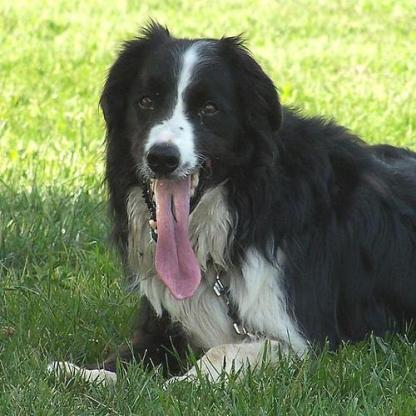collie: (46, 21, 414, 389)
